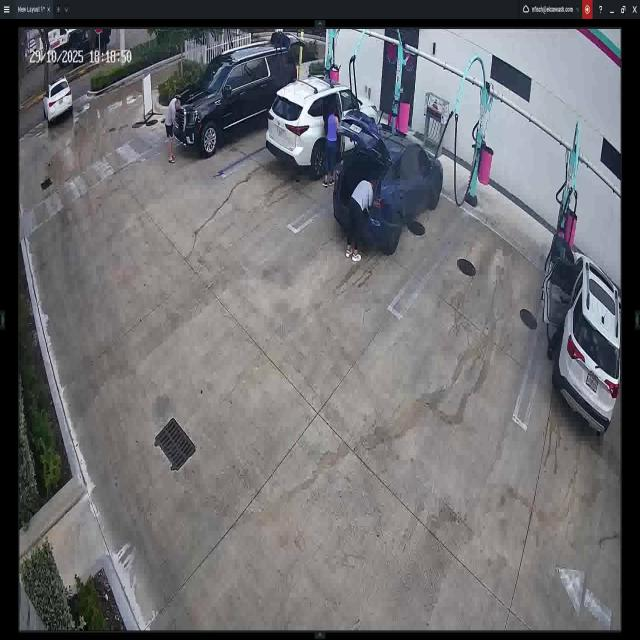Car: (336, 119, 444, 252), (550, 236, 620, 434), (173, 47, 298, 151), (271, 76, 378, 179), (43, 76, 74, 125)
